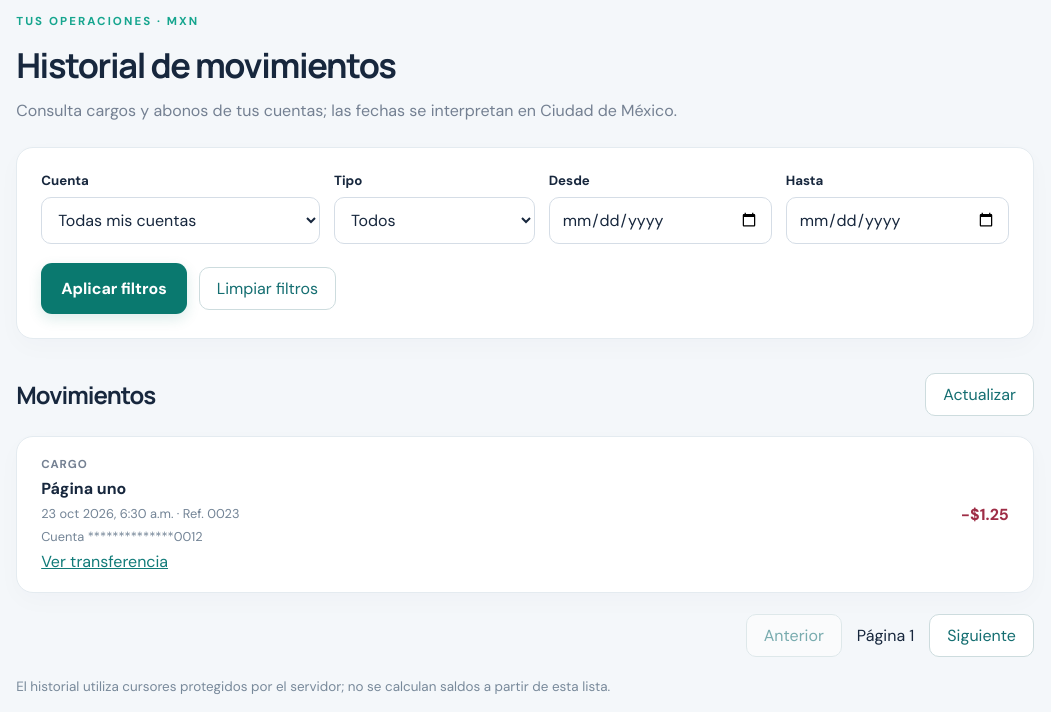
Test case: T-24 historial web con filtros y paginación por cursor › al aplicar otro filtro descarta el cursor anterior y consulta de nuevo desde página uno
Expected: the text "Página uno" is shown, [41, 478, 126, 499]
Click the button "Siguiente" at (982, 635), box [929, 614, 1034, 657]
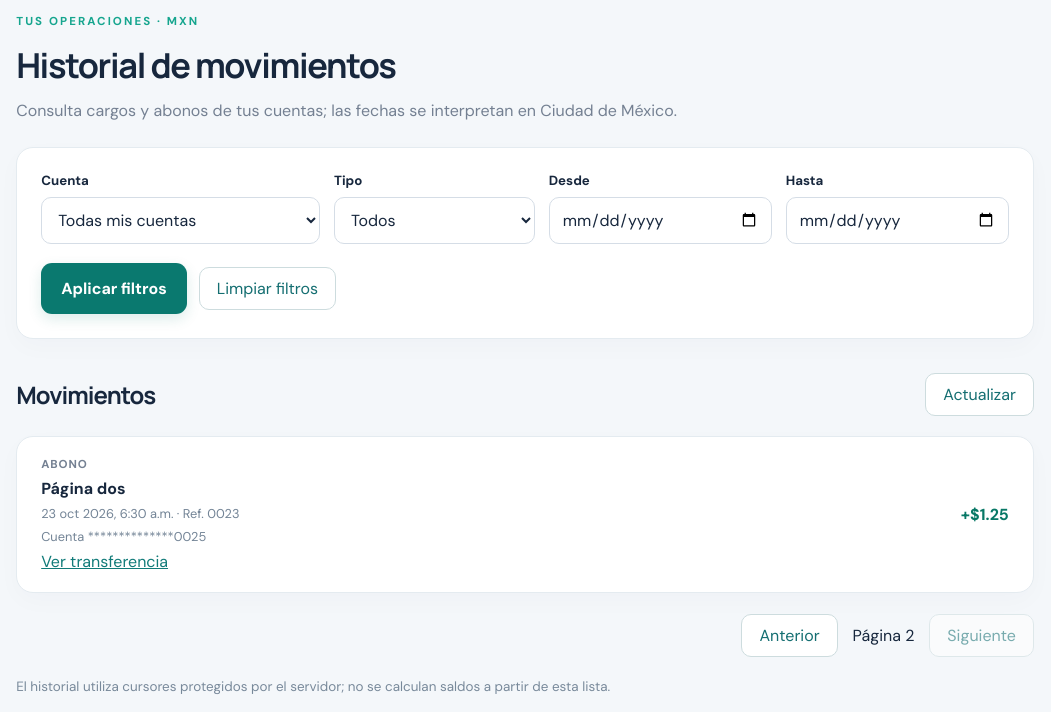
Expected: the text "Página dos" is shown, [41, 478, 126, 499]
Select "Cargos" in the dropdown labelled "Tipo" at (434, 220), box [334, 197, 535, 244]
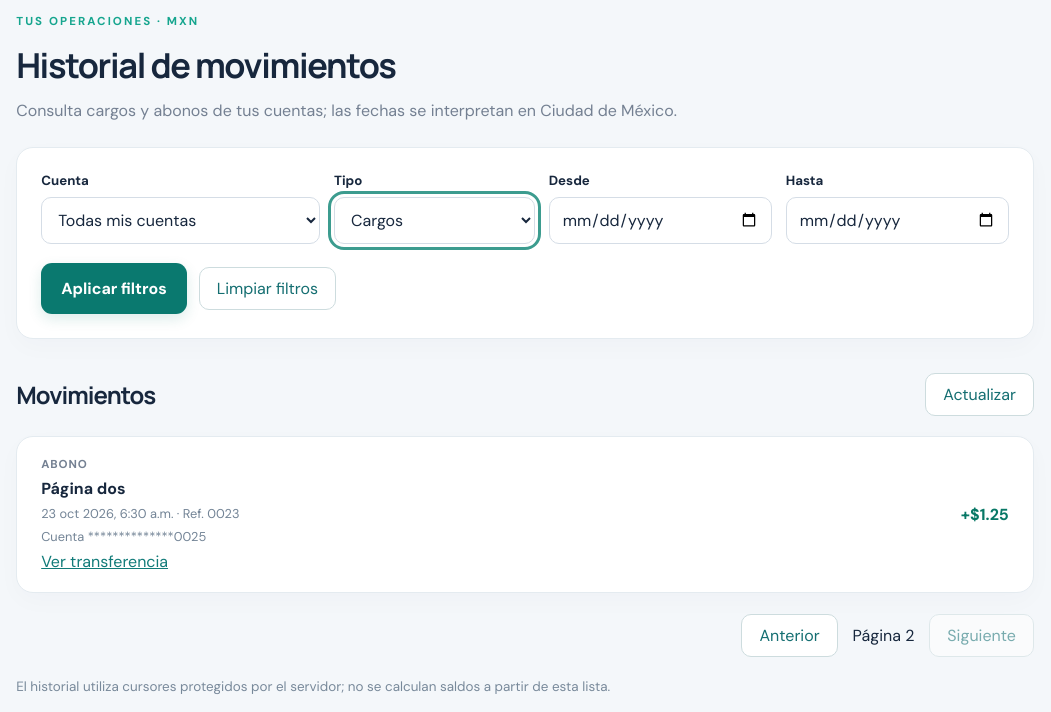
Click the button "Aplicar filtros" at (114, 288), box [41, 263, 187, 314]
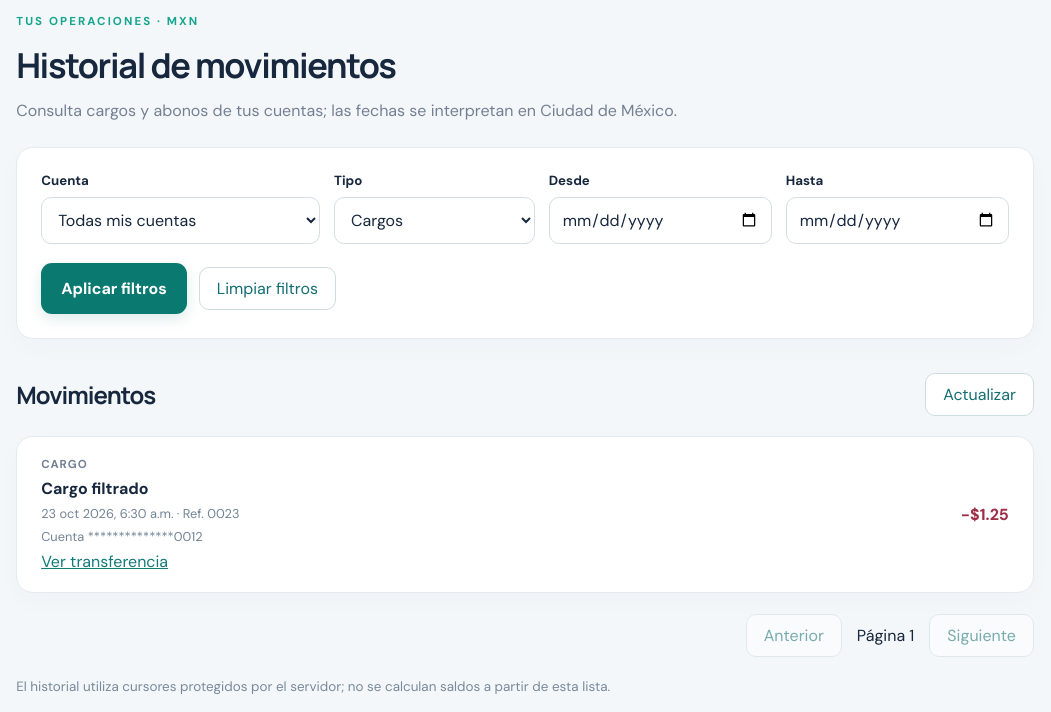
Expected: the text "Cargo filtrado" is shown, [41, 478, 149, 499]
Expected: the text "Página 1" is shown, [857, 625, 914, 646]
Click the button "Limpiar filtros" at (267, 288), box [199, 267, 336, 310]
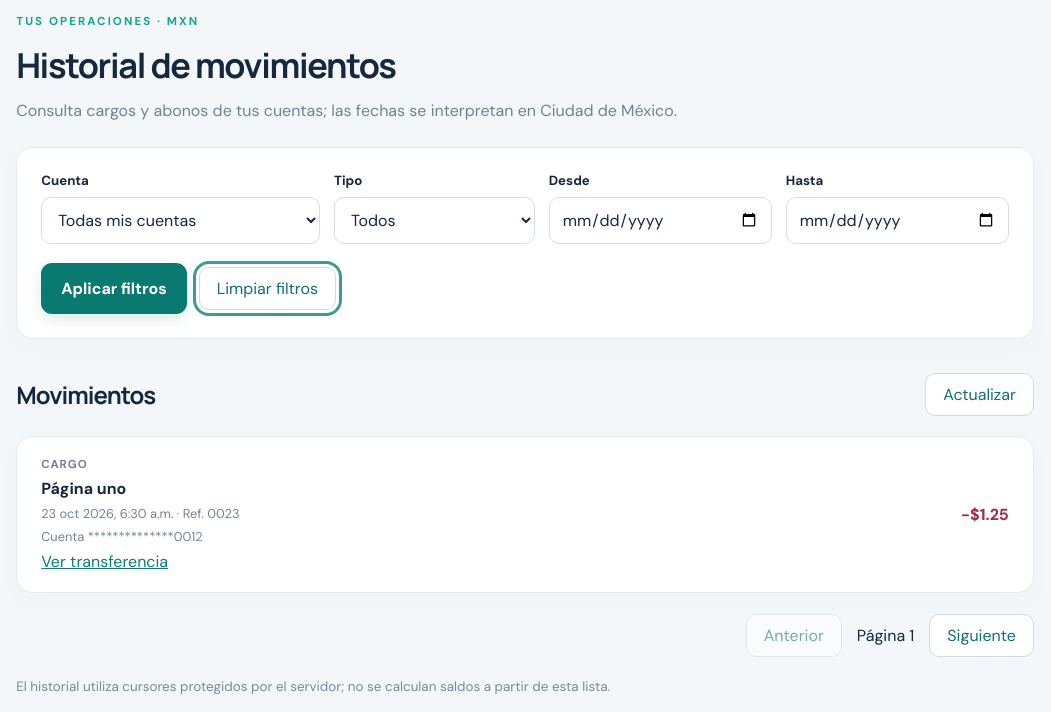
Expected: the text "Página uno" is shown, [41, 478, 126, 499]
